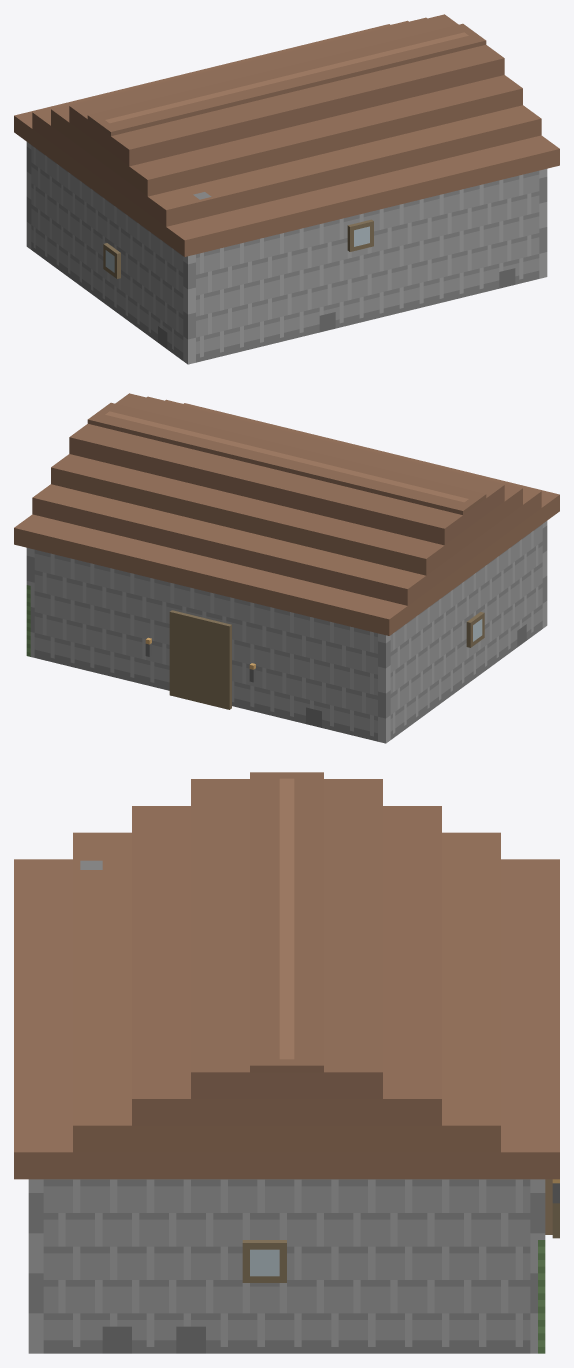
File: vidrieria_02.glb
The picture shows the model from 3 angles, top to bottom: view 1: azimuth 30°, elevation 25°; view 2: azimuth 150°, elevation 25°; view 3: azimuth 270°, elevation 25°; orthographic projection. The views are drawn at different scales.
Visible parts, largest first — view 1: vidrieria_02; view 2: vidrieria_02; view 3: vidrieria_02.
Boxes of the visible parts, bbox=[...] form: vidrieria_02: bbox=[14, 14, 559, 364]; vidrieria_02: bbox=[14, 393, 559, 743]; vidrieria_02: bbox=[14, 772, 559, 1353].
Bounding box in the file's own units: 9.4 × 4.4 × 7.4.
